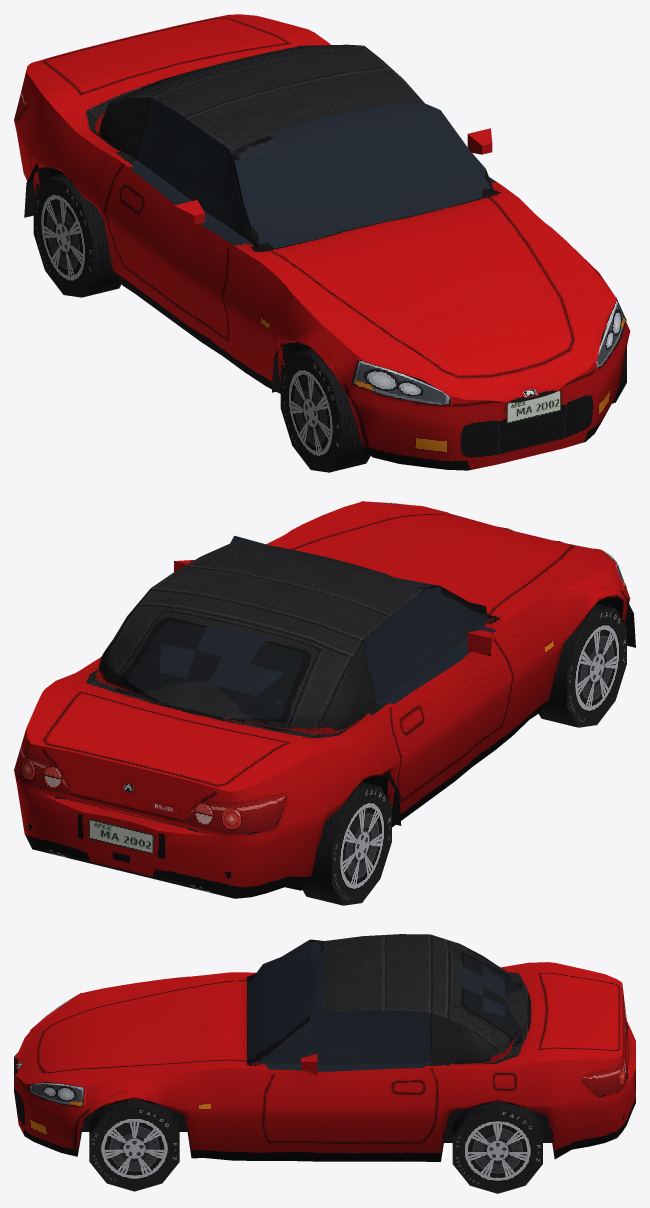
Rendered from car_s2000.glb.
The picture shows the model from 3 angles, top to bottom: view 1: azimuth 30°, elevation 25°; view 2: azimuth 150°, elevation 25°; view 3: azimuth 270°, elevation 25°; orthographic projection. The views are drawn at different scales.
Parts seen in each view (by area): view 1: S2000_Body, S2000_Wheel_RR, S2000_Wheel_FR; view 2: S2000_Body, S2000_Wheel_RR, S2000_Wheel_FR; view 3: S2000_Body, S2000_Wheel_FL, S2000_Wheel_RL.
Part boxes in pixels (box(x1,y1,x2,y2)): S2000_Body: box(14, 14, 630, 470); S2000_Wheel_RR: box(33, 173, 121, 297); S2000_Wheel_FR: box(280, 348, 370, 472); S2000_Body: box(14, 501, 635, 898); S2000_Wheel_RR: box(302, 782, 391, 905); S2000_Wheel_FR: box(539, 604, 626, 727); S2000_Body: box(14, 934, 635, 1161); S2000_Wheel_FL: box(89, 1099, 179, 1191); S2000_Wheel_RL: box(452, 1101, 542, 1193).
Size of the model in its own units: 1.83 by 1.26 by 4.13.
4 materials, 2 textured.
